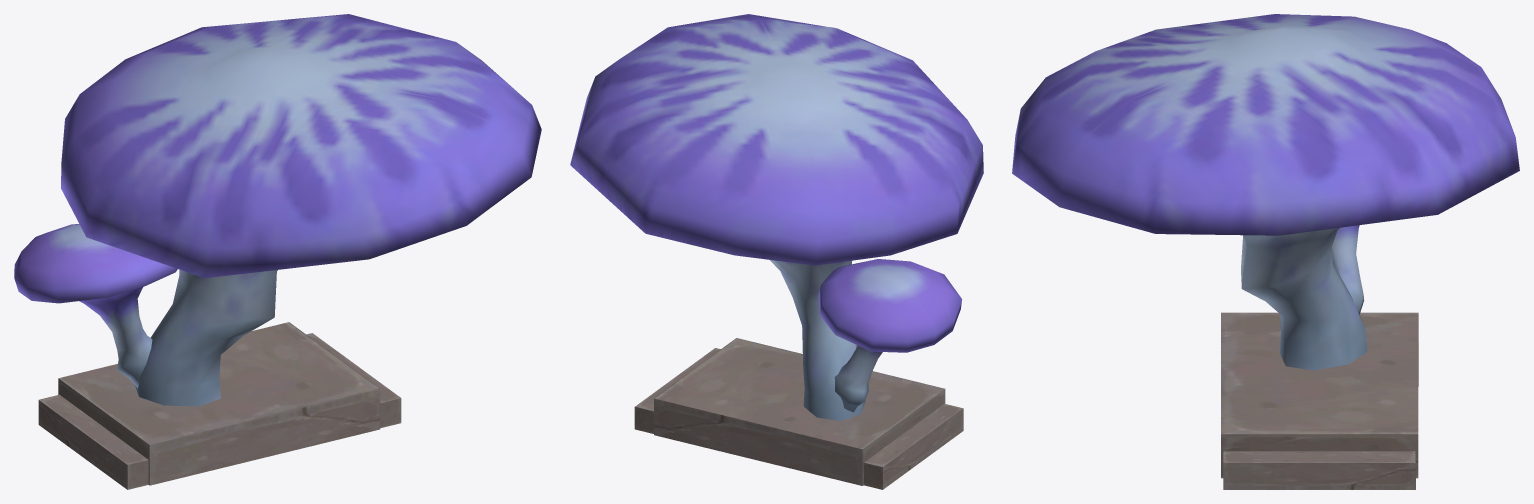
Rendered from Homeworld_Interior_Dq_Decoration_Zhuangshipin_02_Vo.fbx.
3 renders of one model, left to right at view 1: azimuth 30°, elevation 25°; view 2: azimuth 150°, elevation 25°; view 3: azimuth 270°, elevation 25°, orthographic. The views are drawn at different scales.
Visible parts, largest first — view 1: Homeworld_Interior_Dq_Decoration_Zhuangshipin_02_Vo; view 2: Homeworld_Interior_Dq_Decoration_Zhuangshipin_02_Vo; view 3: Homeworld_Interior_Dq_Decoration_Zhuangshipin_02_Vo.
Part boxes in pixels (x1=…): Homeworld_Interior_Dq_Decoration_Zhuangshipin_02_Vo: x1=14, y1=14, x2=541, y2=489; Homeworld_Interior_Dq_Decoration_Zhuangshipin_02_Vo: x1=570, y1=14, x2=983, y2=489; Homeworld_Interior_Dq_Decoration_Zhuangshipin_02_Vo: x1=1012, y1=14, x2=1519, y2=489.
Bounding box in the file's own units: 0.4722 × 0.3835 × 0.4417.
